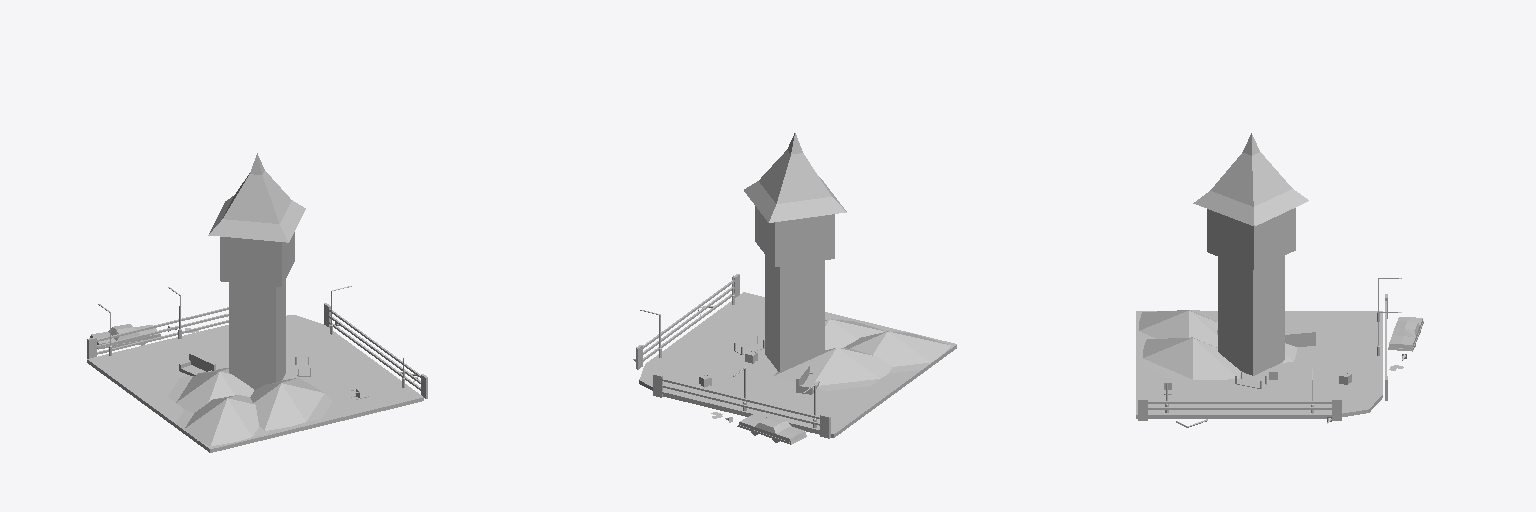
File: Clocktower .obj
The picture shows the model from 3 angles: view 1: azimuth 30°, elevation 25°; view 2: azimuth 150°, elevation 25°; view 3: azimuth 270°, elevation 25°; orthographic projection.
Parts seen in each view (by area): view 1: polySurface86 polySurface58, pCube16, Debri:pPlane3, pPlane48, pPlane3, Laser_Fence:modelPanel3ViewSelectedSet Laser_Fence:pCube59 polyS, Laser_Fence1:modelPanel3ViewSelectedSet Laser_Fence1:pCube59 pol, Car:pCube3, Sofa:pCube13; view 2: pCube16, polySurface86 polySurface58, pPlane3, Debri:pPlane3, Laser_Fence:modelPanel3ViewSelectedSet Laser_Fence:pCube59 polyS, Laser_Fence1:modelPanel3ViewSelectedSet Laser_Fence1:pCube59 pol, Car:pCube3, pPlane48; view 3: pCube16, polySurface86 polySurface58, pPlane48, Debri:pPlane3, Laser_Fence1:modelPanel3ViewSelectedSet Laser_Fence1:pCube59 pol, Car:pCube3.
Part boxes in pixels (x1,y1,x2,y2): polySurface86 polySurface58: (87, 315, 423, 452); pCube16: (208, 153, 305, 389); Debri:pPlane3: (176, 395, 269, 446); pPlane48: (250, 378, 332, 430); pPlane3: (168, 368, 253, 412); Laser_Fence:modelPanel3ViewSelectedSet Laser_Fence:pCube59 polyS: (87, 307, 228, 358); Laser_Fence1:modelPanel3ViewSelectedSet Laser_Fence1:pCube59 pol: (324, 303, 427, 398); Car:pCube3: (90, 324, 160, 349); Sofa:pCube13: (179, 353, 215, 375); pCube16: (744, 133, 846, 371); polySurface86 polySurface58: (639, 292, 956, 437); pPlane3: (774, 348, 891, 390); Debri:pPlane3: (844, 331, 950, 372); Laser_Fence:modelPanel3ViewSelectedSet Laser_Fence:pCube59 polyS: (653, 374, 830, 438); Laser_Fence1:modelPanel3ViewSelectedSet Laser_Fence1:pCube59 pol: (636, 274, 739, 369); Car:pCube3: (737, 414, 806, 444); pPlane48: (825, 319, 886, 349); pCube16: (1193, 133, 1308, 375); polySurface86 polySurface58: (1136, 311, 1382, 418); pPlane48: (1143, 337, 1240, 379); Debri:pPlane3: (1139, 310, 1217, 347); Laser_Fence1:modelPanel3ViewSelectedSet Laser_Fence1:pCube59 pol: (1138, 398, 1341, 420); Car:pCube3: (1388, 317, 1423, 351).
Size of the model in its own units: 10.55 by 10.03 by 11.19.